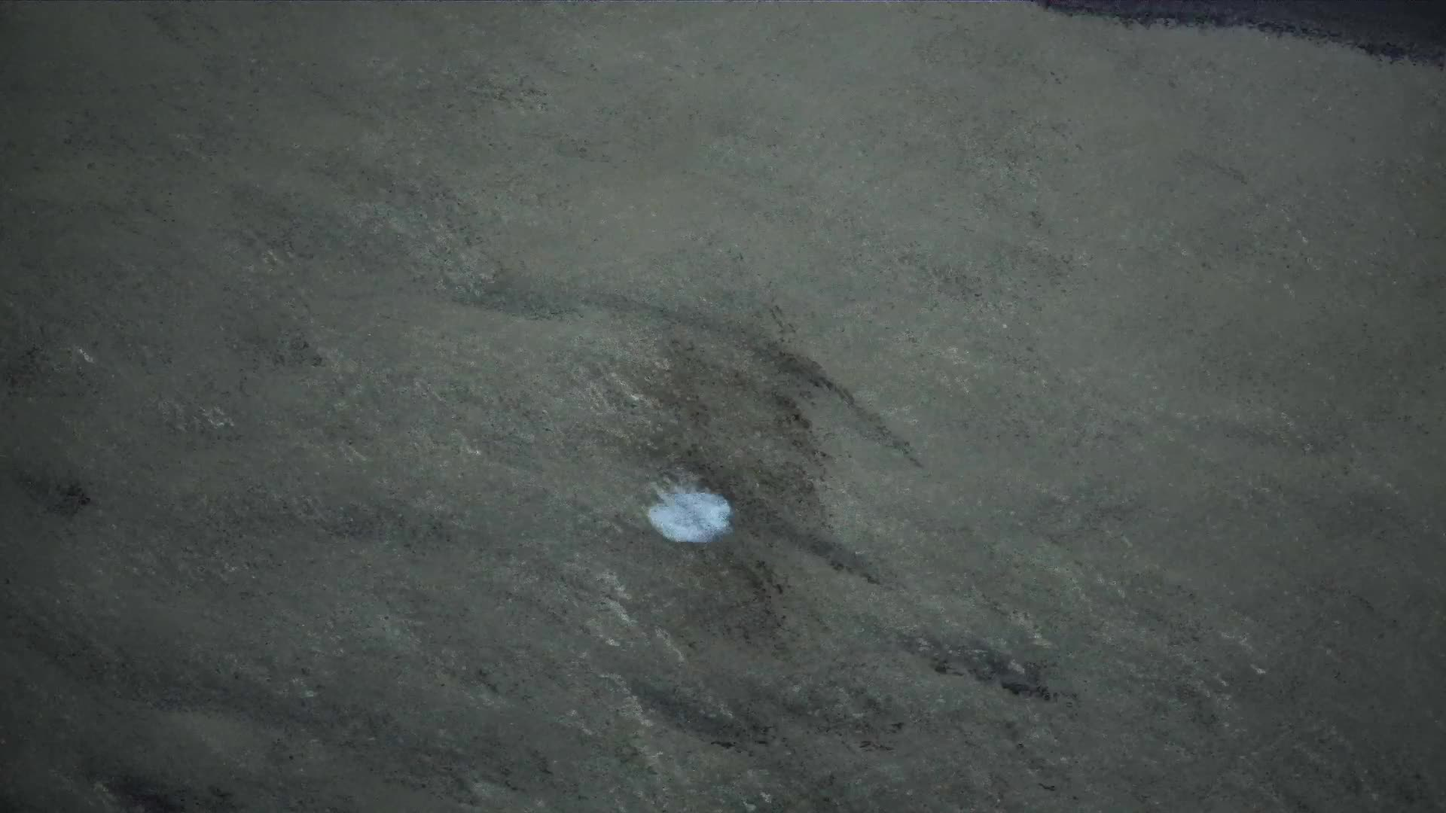Target: (637, 483, 741, 546)
